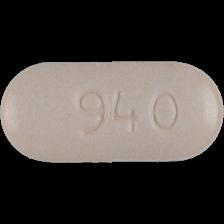76237-135: (0, 0, 224, 224)
